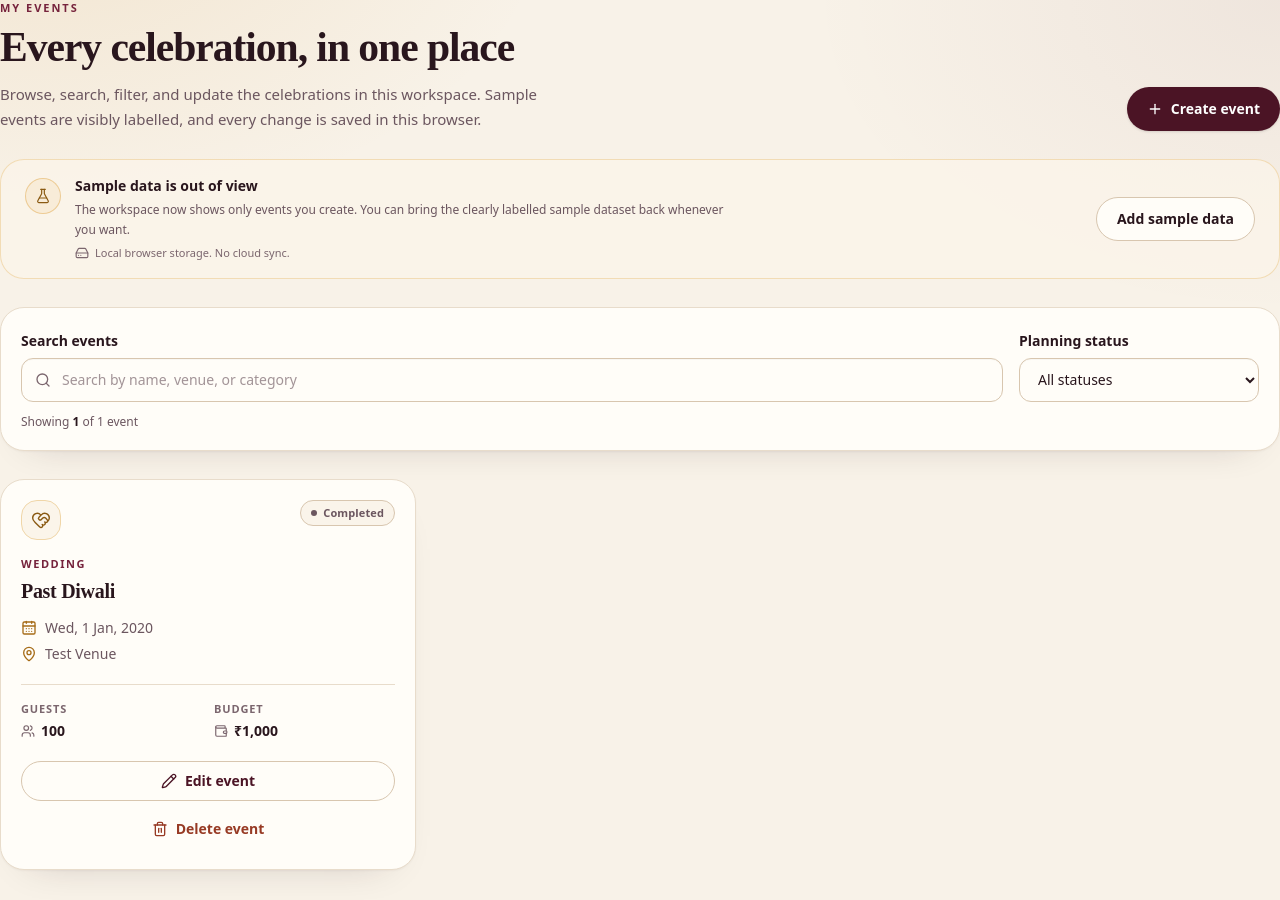
Test: EventsPage › allows correcting a saved past event without forcing a new date
Click the button with aria-label "Edit Past Diwali": (208, 781) [21,761,395,801]
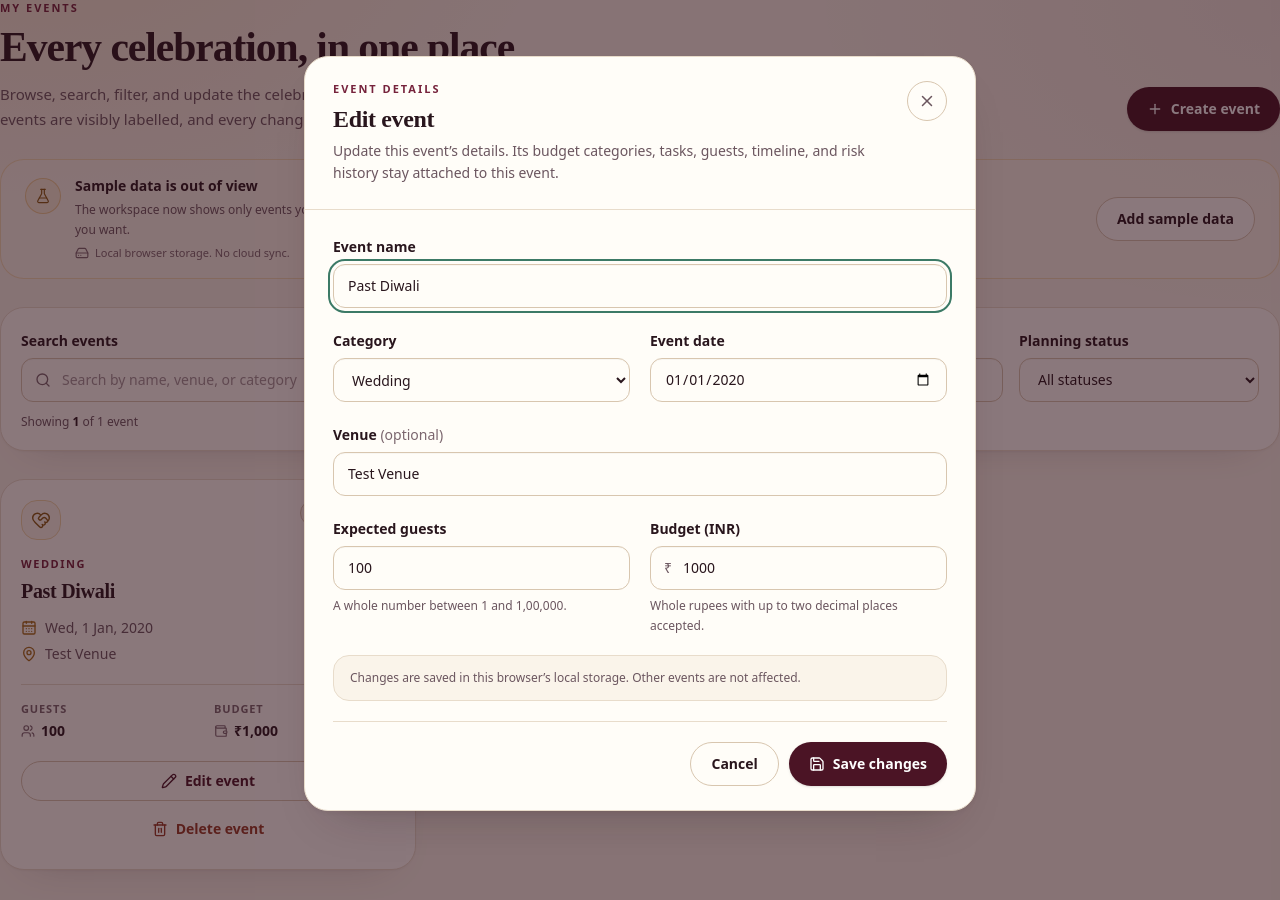
Expected: the date field labelled "Event date" holds "2020-01-01", [650,358,947,402]
Replace the text in the field labelled "Event name" with "Past Diwali Archive": (640, 286) [333,264,947,308]
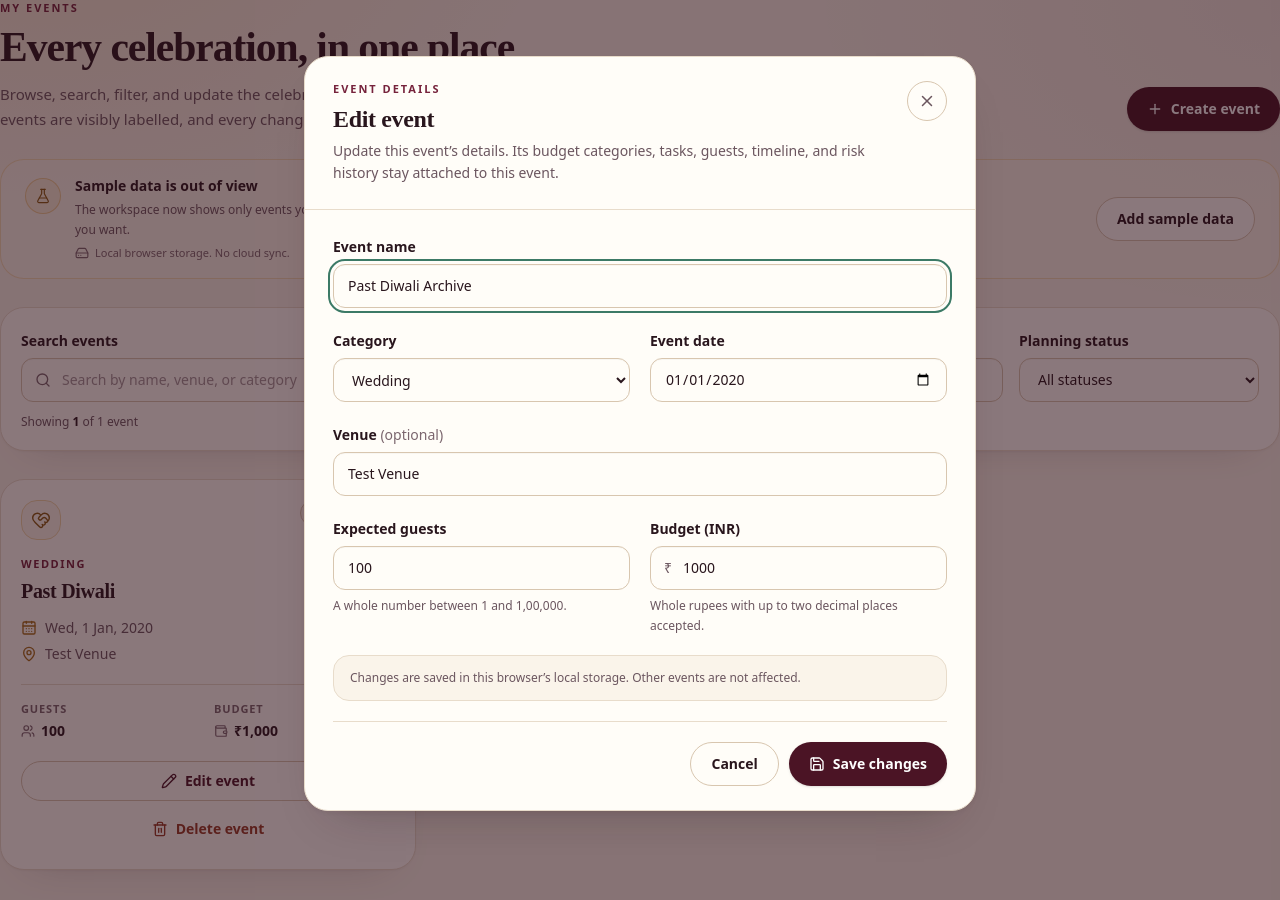
Click the button "Save changes": (868, 764) [789,742,947,786]
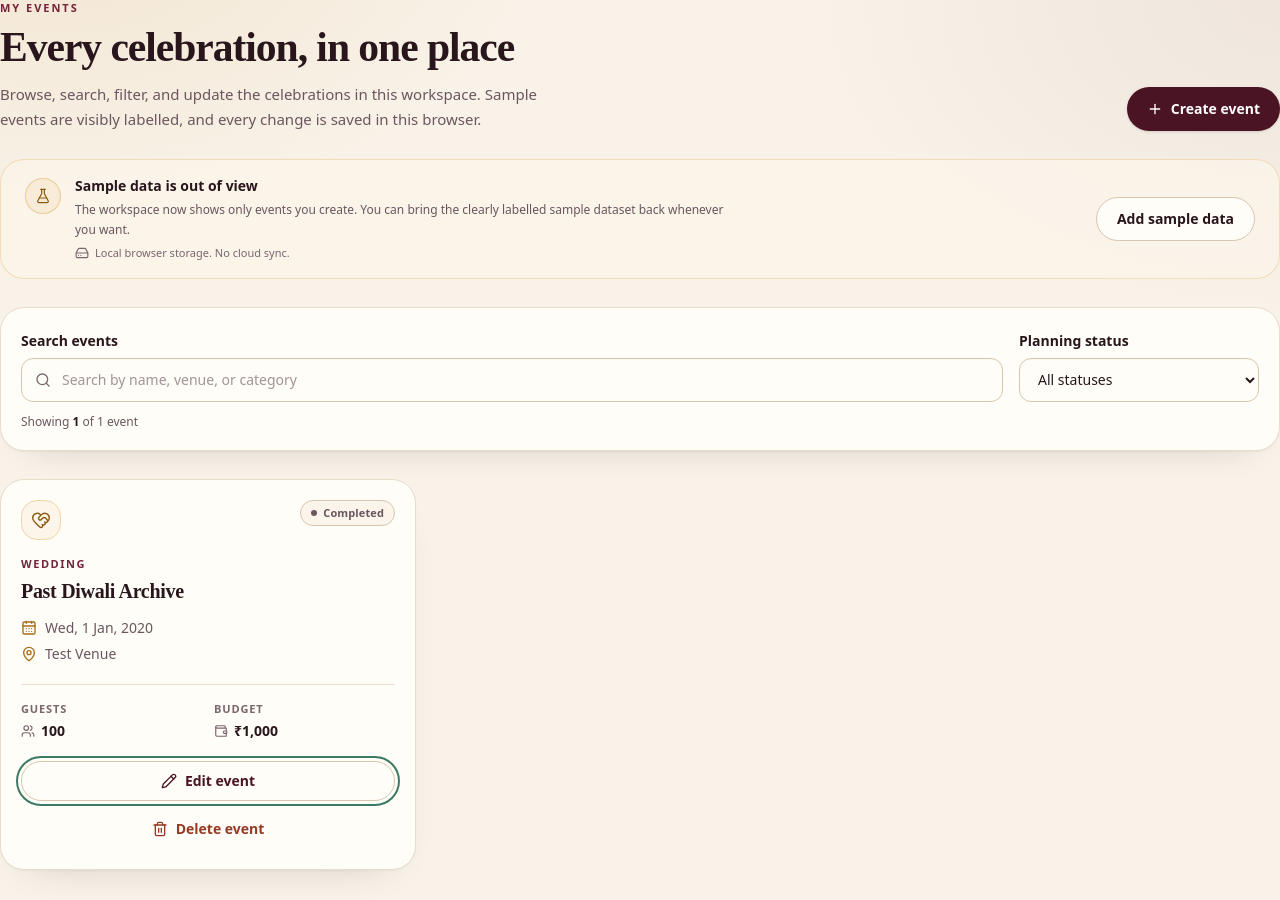
Expected: the heading "Past Diwali Archive" is shown, [21,580,184,602]
